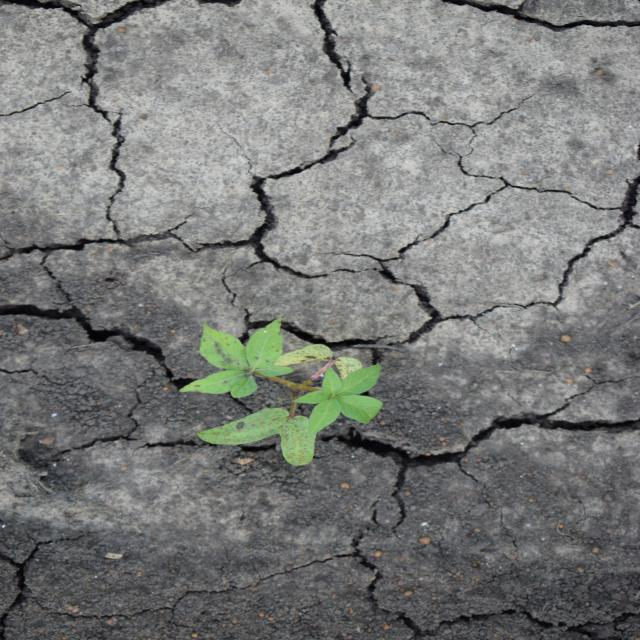MorningGlory: (177, 314, 388, 468)
